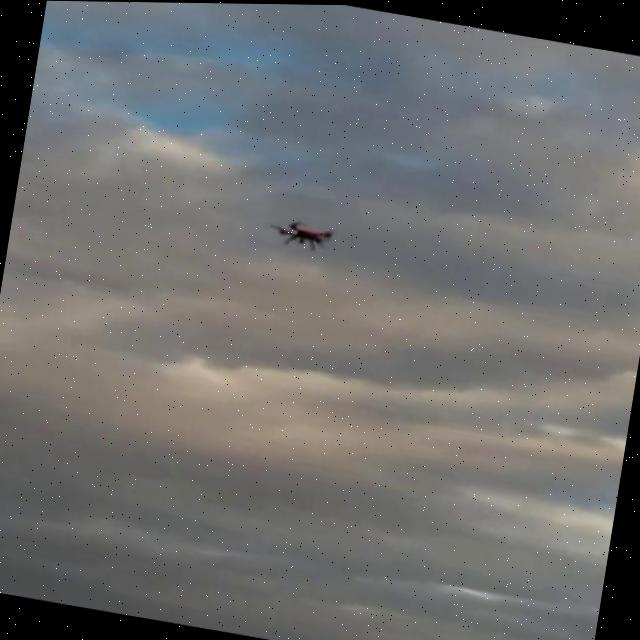drone: (270, 213, 342, 255)
